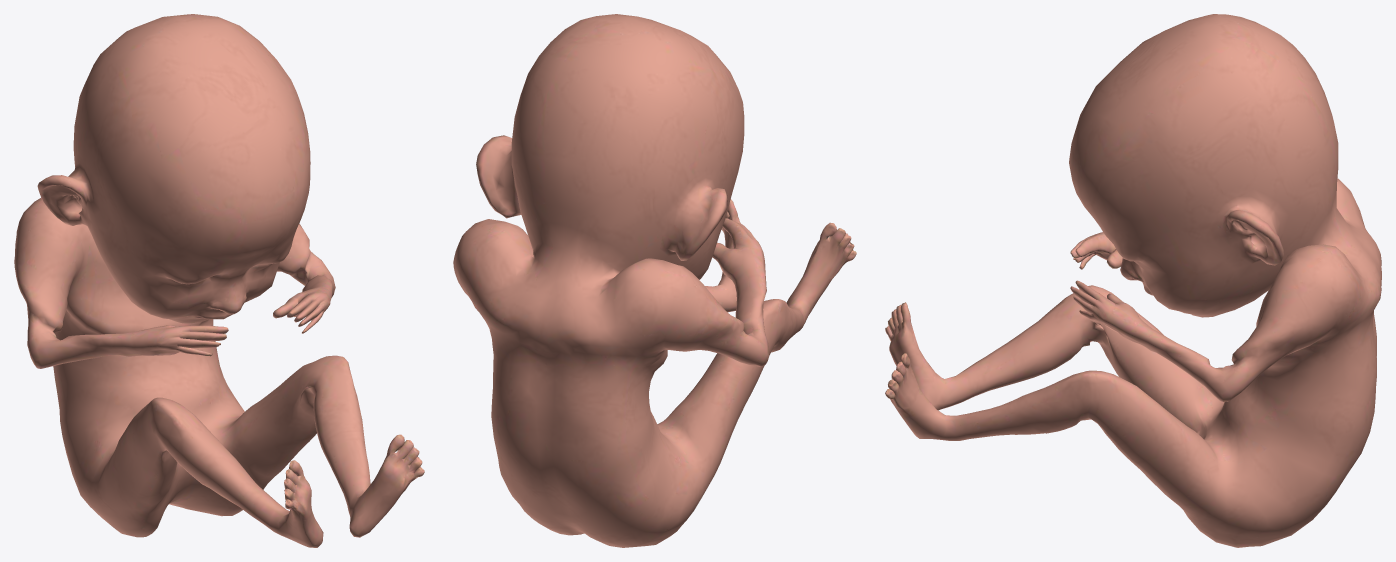
3 renders of one model, left to right at view 1: azimuth 30°, elevation 25°; view 2: azimuth 150°, elevation 25°; view 3: azimuth 270°, elevation 25°, orthographic.
Parts seen in each view (by area): view 1: Baby; view 2: Baby; view 3: Baby.
Part boxes in pixels (x1=…): Baby: x1=14, y1=14, x2=424, y2=547; Baby: x1=453, y1=14, x2=856, y2=547; Baby: x1=885, y1=14, x2=1381, y2=547.
Bounding box in the file's own units: 0.1107 × 0.1783 × 0.1603.
Materials: 1 (1 with a texture image).
